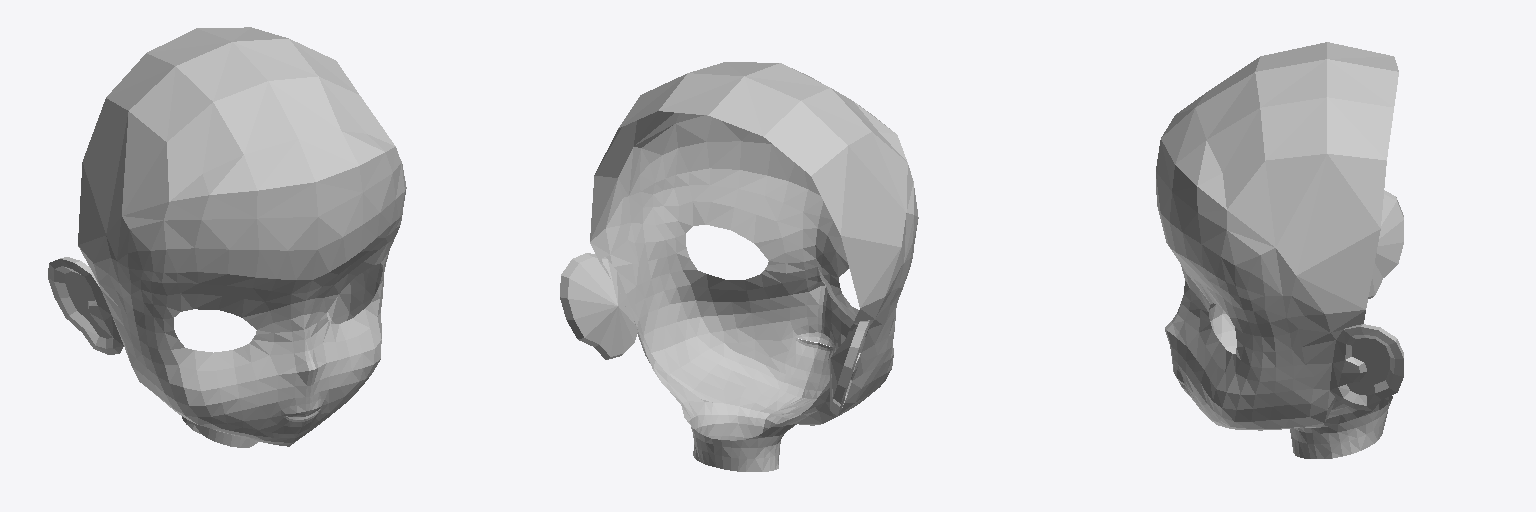
Rendered from 99 Head.obj.
The picture shows the model from 3 angles: view 1: azimuth 30°, elevation 25°; view 2: azimuth 150°, elevation 25°; view 3: azimuth 270°, elevation 25°; orthographic projection.
Visible parts, largest first — view 1: Face_mtr_Black_TailedGull_115.010; view 2: Face_mtr_Black_TailedGull_115.010; view 3: Face_mtr_Black_TailedGull_115.010.
Boxes of the visible parts, x1=… form: Face_mtr_Black_TailedGull_115.010: x1=48, y1=27, x2=406, y2=447; Face_mtr_Black_TailedGull_115.010: x1=560, y1=62, x2=918, y2=471; Face_mtr_Black_TailedGull_115.010: x1=1156, y1=42, x2=1403, y2=458.
Size of the model in its own units: 0.2288 by 0.2887 by 0.1652.